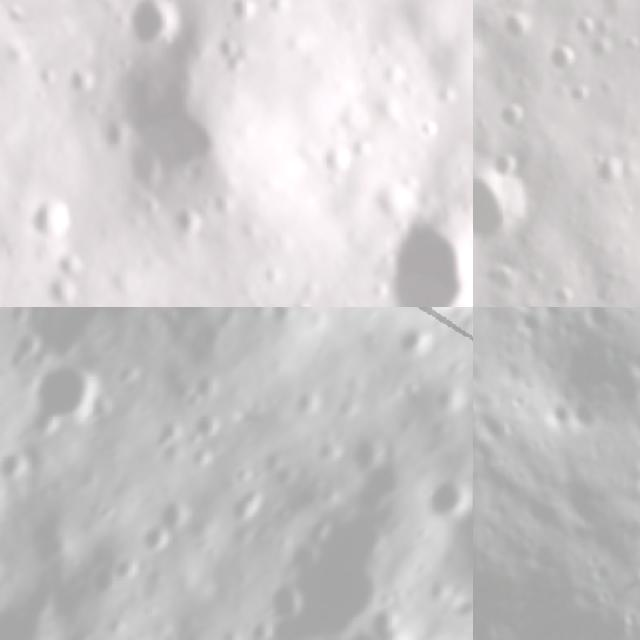crater: (70, 31, 266, 214), (237, 467, 426, 640), (351, 171, 473, 307), (2, 334, 122, 456), (15, 178, 92, 258), (244, 562, 319, 640), (473, 150, 528, 254), (112, 0, 197, 59), (411, 465, 473, 539), (73, 544, 135, 610), (158, 190, 220, 253), (118, 512, 182, 573), (146, 481, 204, 544), (217, 484, 274, 544), (0, 321, 51, 379), (386, 316, 439, 368), (57, 58, 105, 104), (315, 134, 361, 180), (40, 267, 86, 307), (215, 0, 269, 33), (0, 441, 32, 492), (52, 247, 89, 286), (590, 151, 630, 187), (253, 258, 290, 294), (210, 28, 246, 62), (220, 48, 253, 82), (544, 42, 573, 80), (348, 133, 379, 166), (547, 400, 574, 433), (504, 388, 530, 417), (37, 629, 84, 640), (509, 307, 551, 319)
